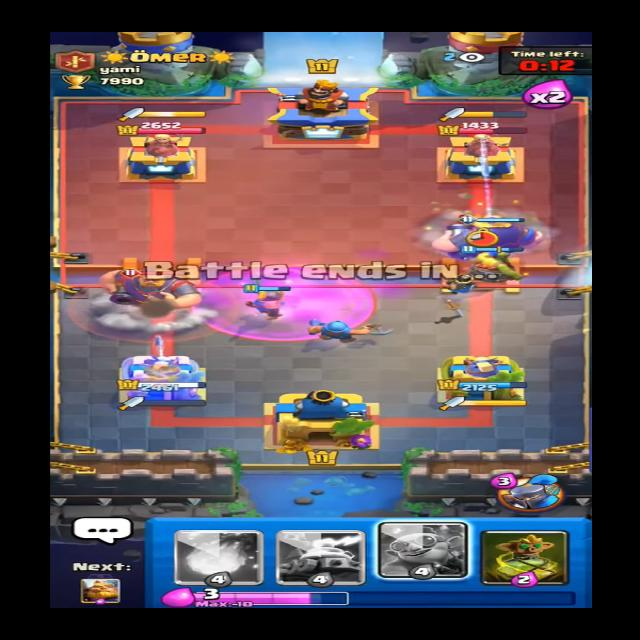evo-royal-giant: (83, 262, 208, 320)
rage: (193, 267, 376, 340)
